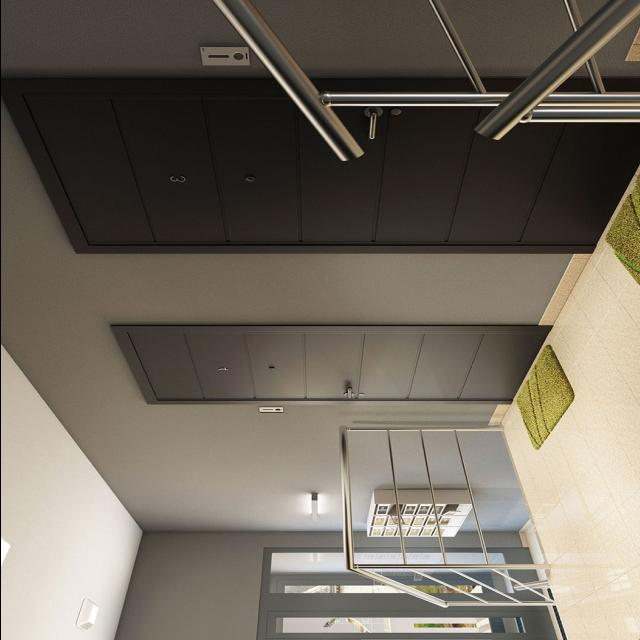close: (25, 91, 616, 249), (130, 329, 532, 402)
